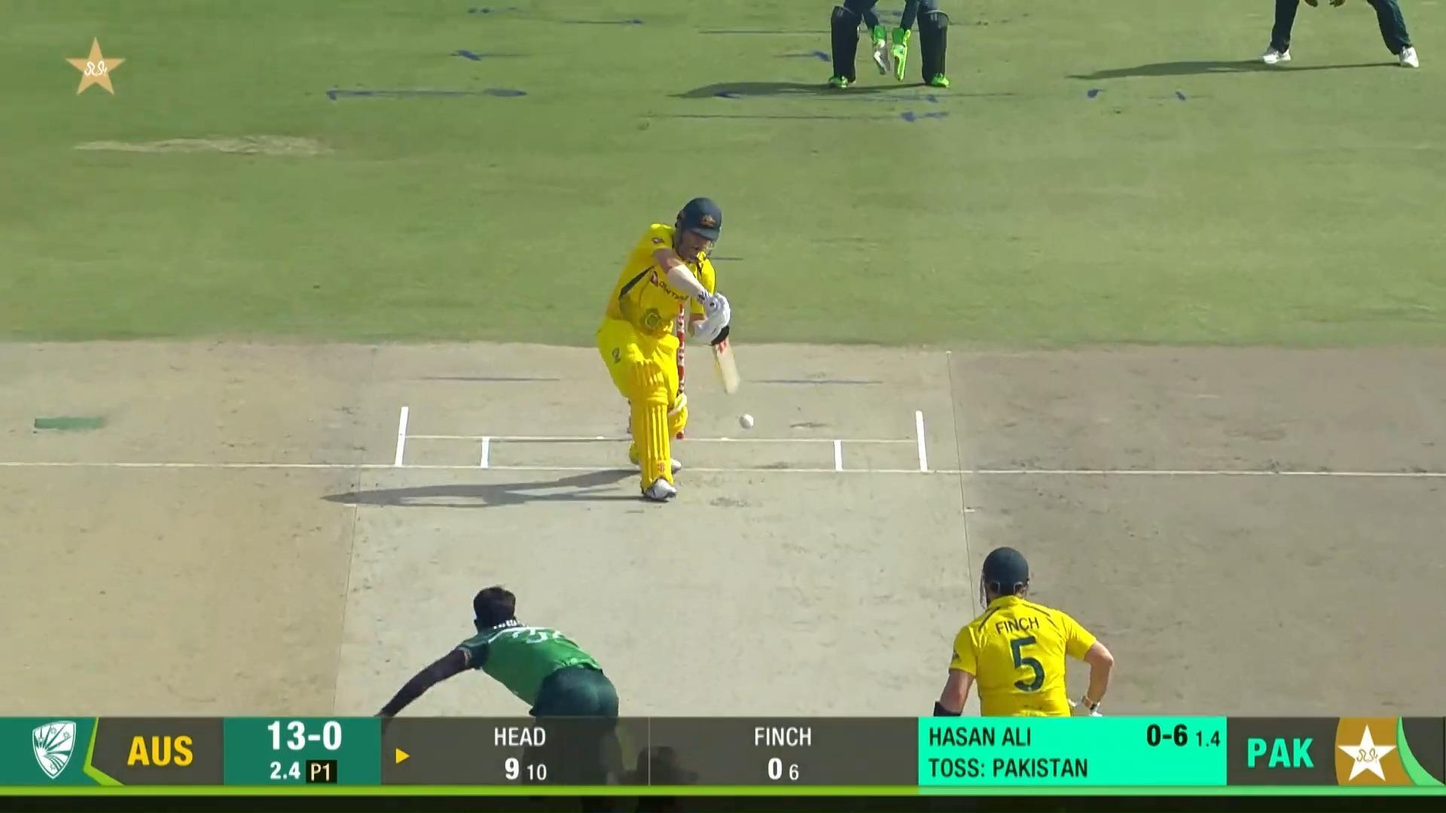BM 1: (595, 199, 740, 502)
BO: (363, 582, 623, 813)
